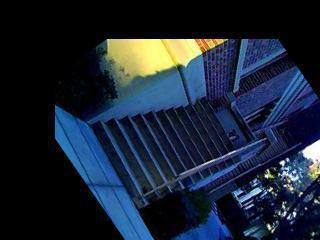Escaleras: (85, 61, 254, 217), (179, 104, 297, 201)
